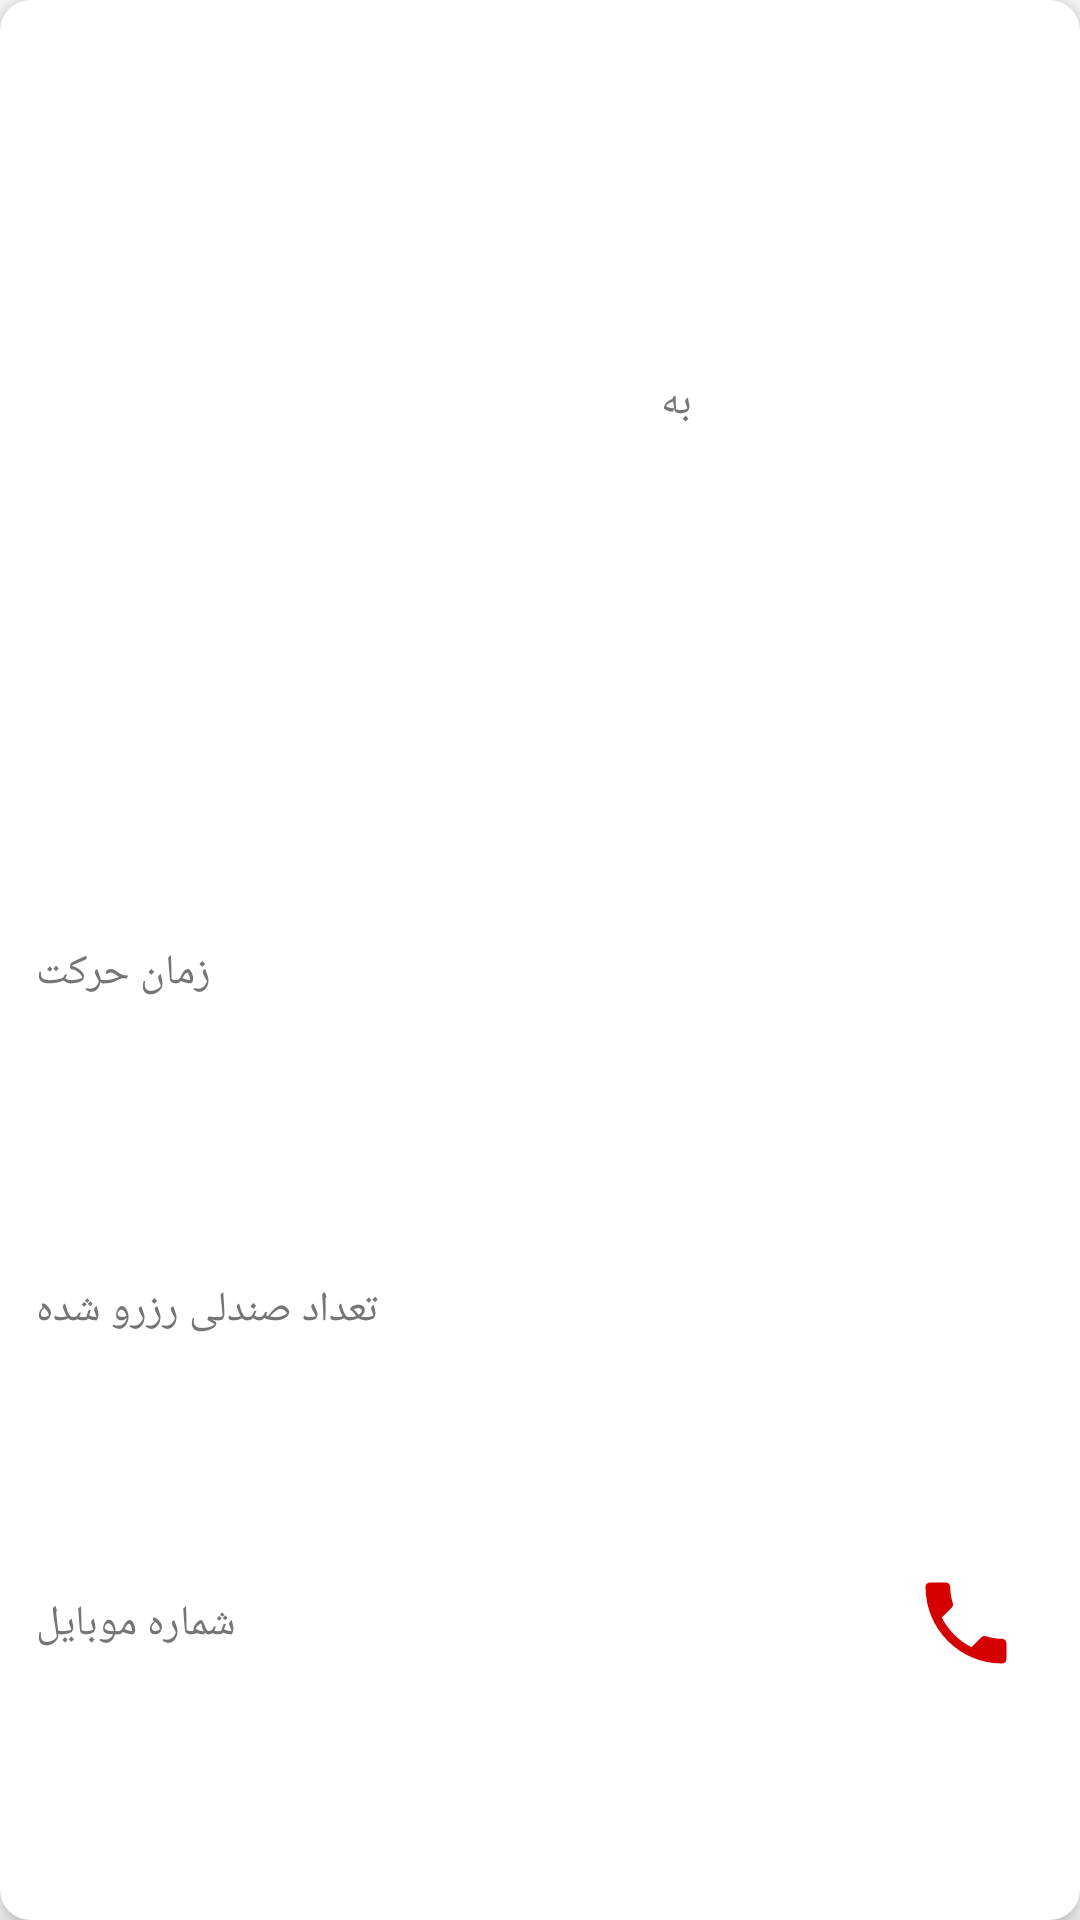

Locate icon controls on the screen. Image size 1080×1920, boxes as (x1, y1, x2, y2).
call: (925, 1582, 1007, 1664)
